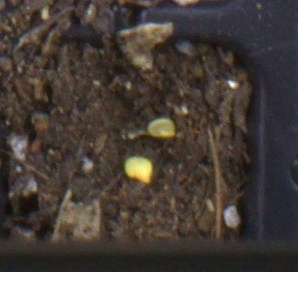chilli seed: (122, 155, 153, 184), (146, 117, 177, 138)
